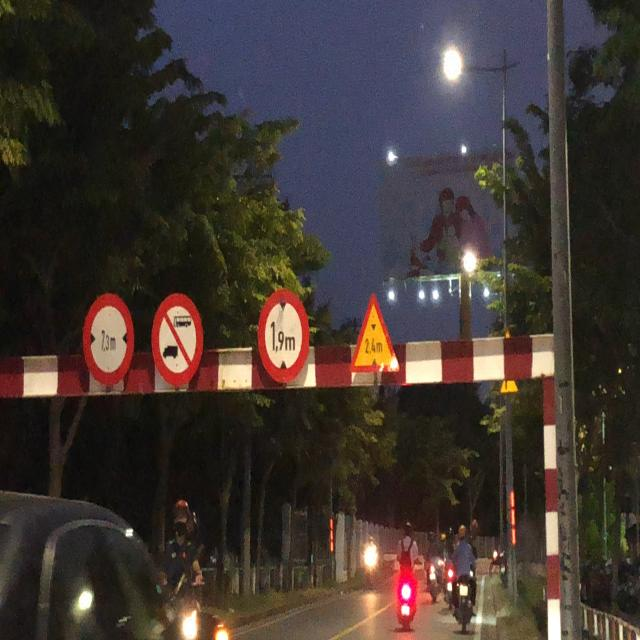Bien bao cam xe oto khach va xe oto tai: (151, 292, 204, 391)
Bien bao chieu cao tinh khong thuc te: (347, 287, 404, 377)
Bien bao han che chieu cao: (257, 283, 315, 387)
